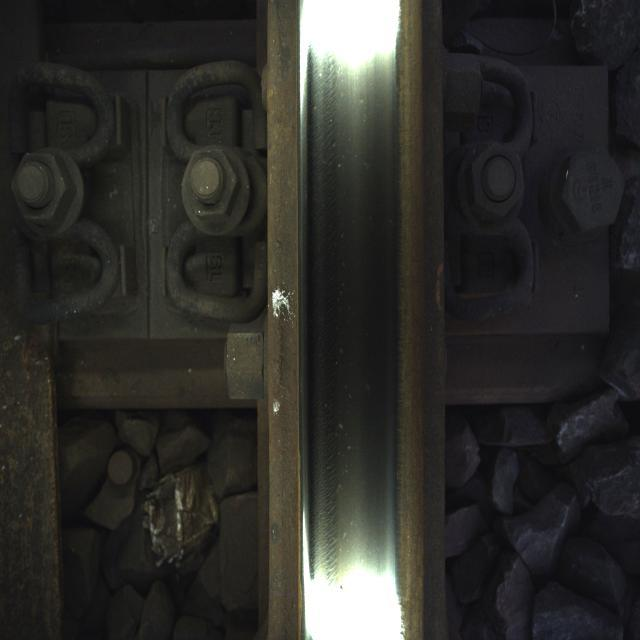break: (309, 29, 390, 562)
